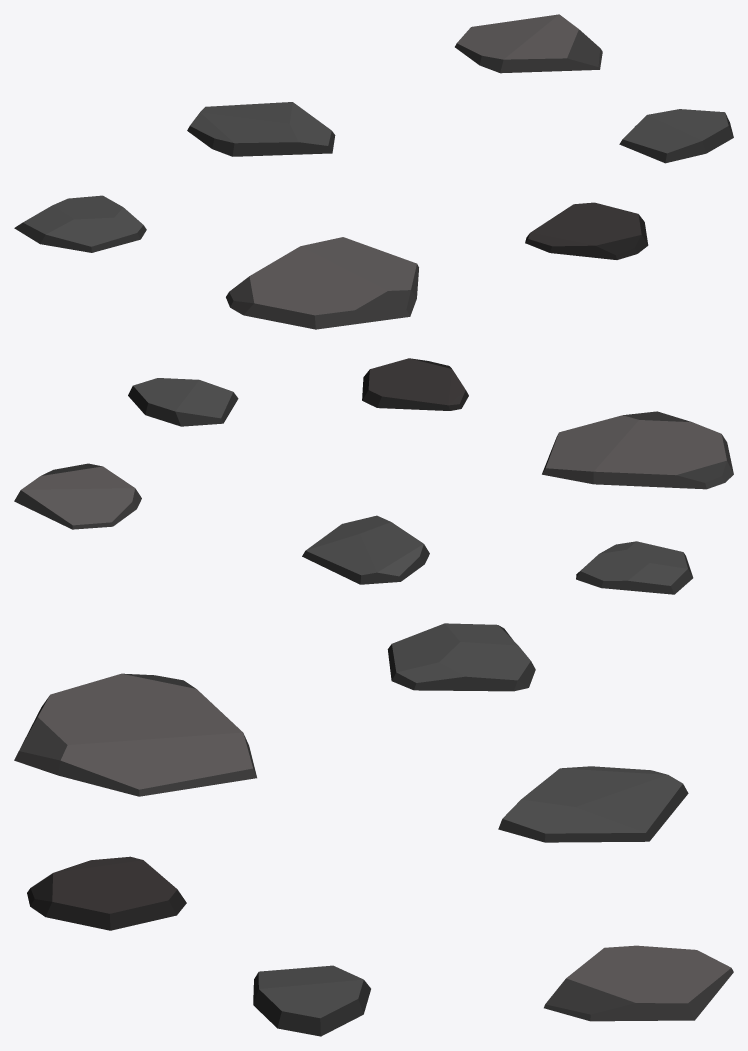
File: Rock_Patch_03.fbx
The picture shows the model from 3 angles, top to bottom: view 1: azimuth 30°, elevation 25°; view 2: azimuth 150°, elevation 25°; view 3: azimuth 270°, elevation 25°; orthographic projection. The views are drawn at different scales.
Parts seen in each view (by area): view 1: Rock_Patch_03; view 2: Rock_Patch_03; view 3: Rock_Patch_03.
Part boxes in pixels (x1=…): Rock_Patch_03: x1=14, y1=14, x2=733, y2=329; Rock_Patch_03: x1=14, y1=358, x2=733, y2=594; Rock_Patch_03: x1=14, y1=623, x2=733, y2=1036.
Size of the model in its own units: 194 by 3.59 by 145.
